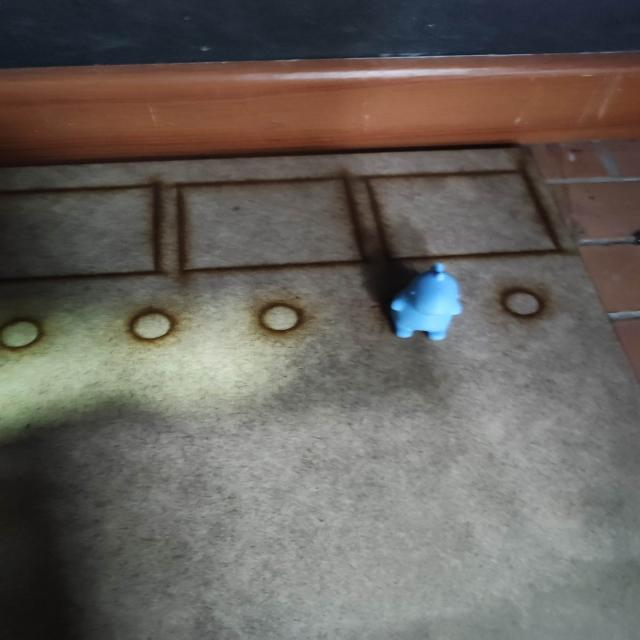DINO: (375, 258, 477, 352)
